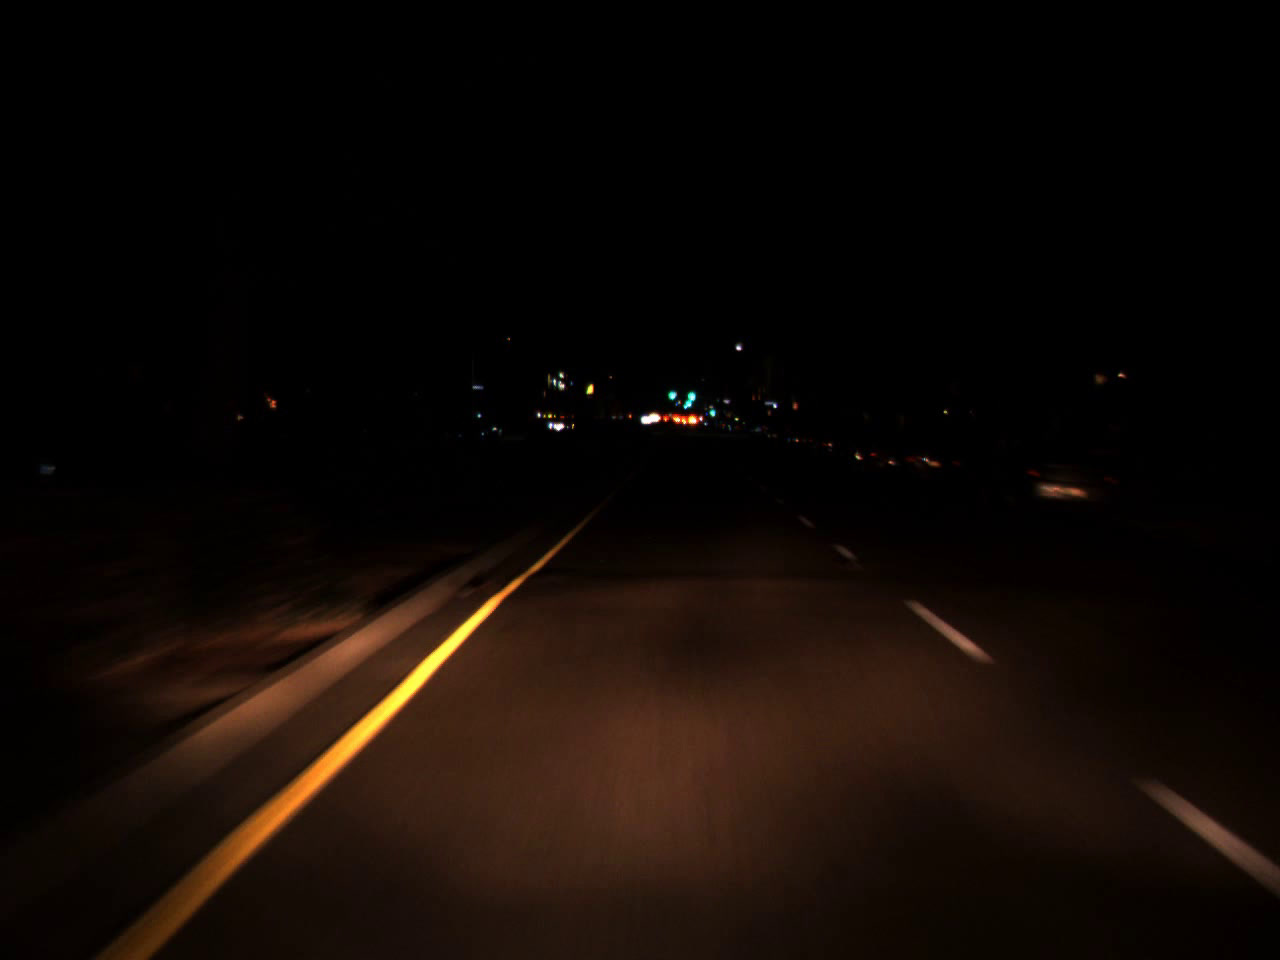go: (683, 378, 697, 405), (667, 381, 677, 402), (708, 403, 715, 418)
